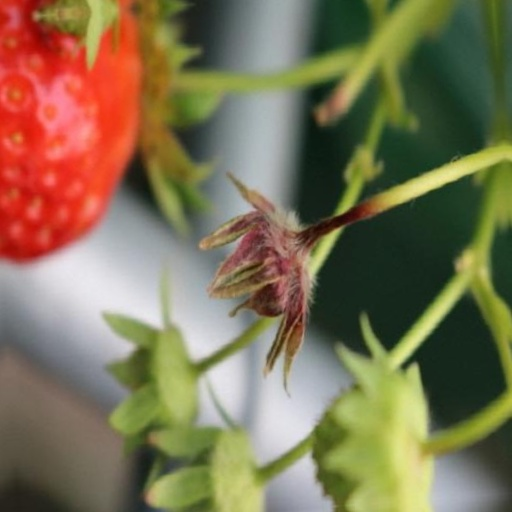Gray Mold: (140, 170, 316, 399)
